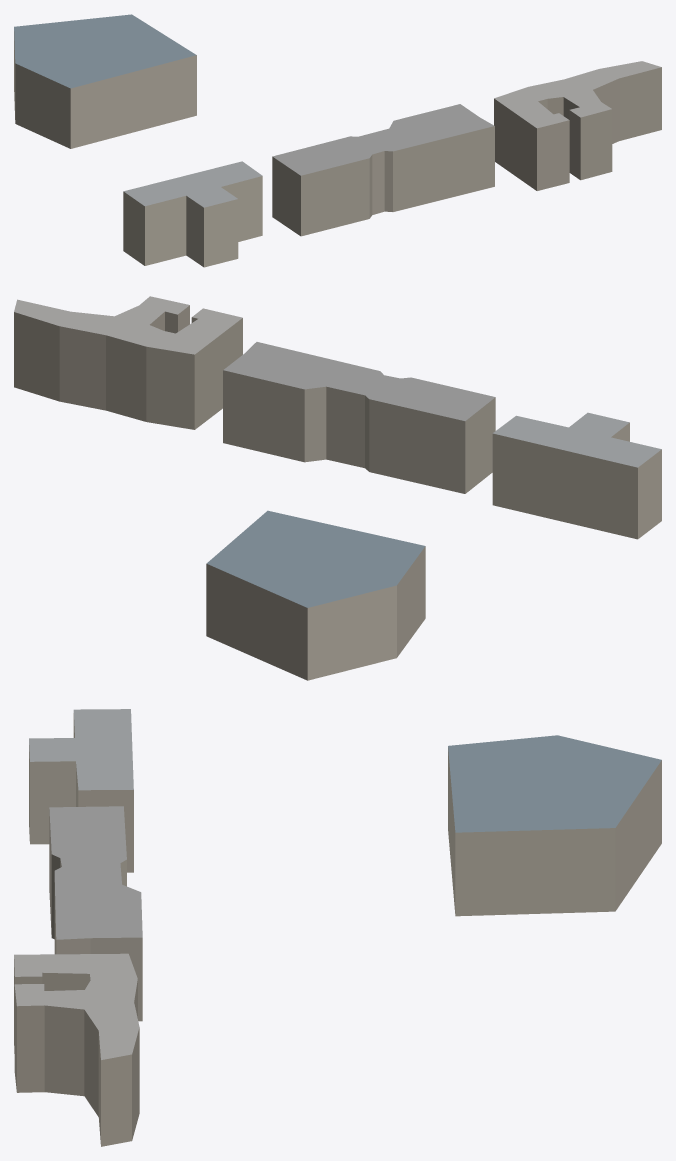
3 renders of one model, top to bottom at view 1: azimuth 30°, elevation 25°; view 2: azimuth 150°, elevation 25°; view 3: azimuth 270°, elevation 25°, orthographic. The views are drawn at different scales.
Parts seen in each view (by area): view 1: tuile; view 2: tuile; view 3: tuile.
Boxes of the visible parts, x1=… form: tuile: x1=14, y1=14, x2=661, y2=267; tuile: x1=14, y1=296, x2=661, y2=680; tuile: x1=14, y1=709, x2=661, y2=1146.
Bounding box in the file's own units: 295 × 33.89 × 227.
